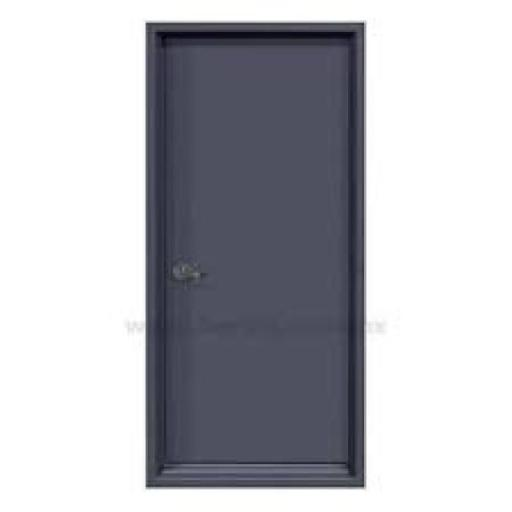door: (144, 22, 366, 488)
